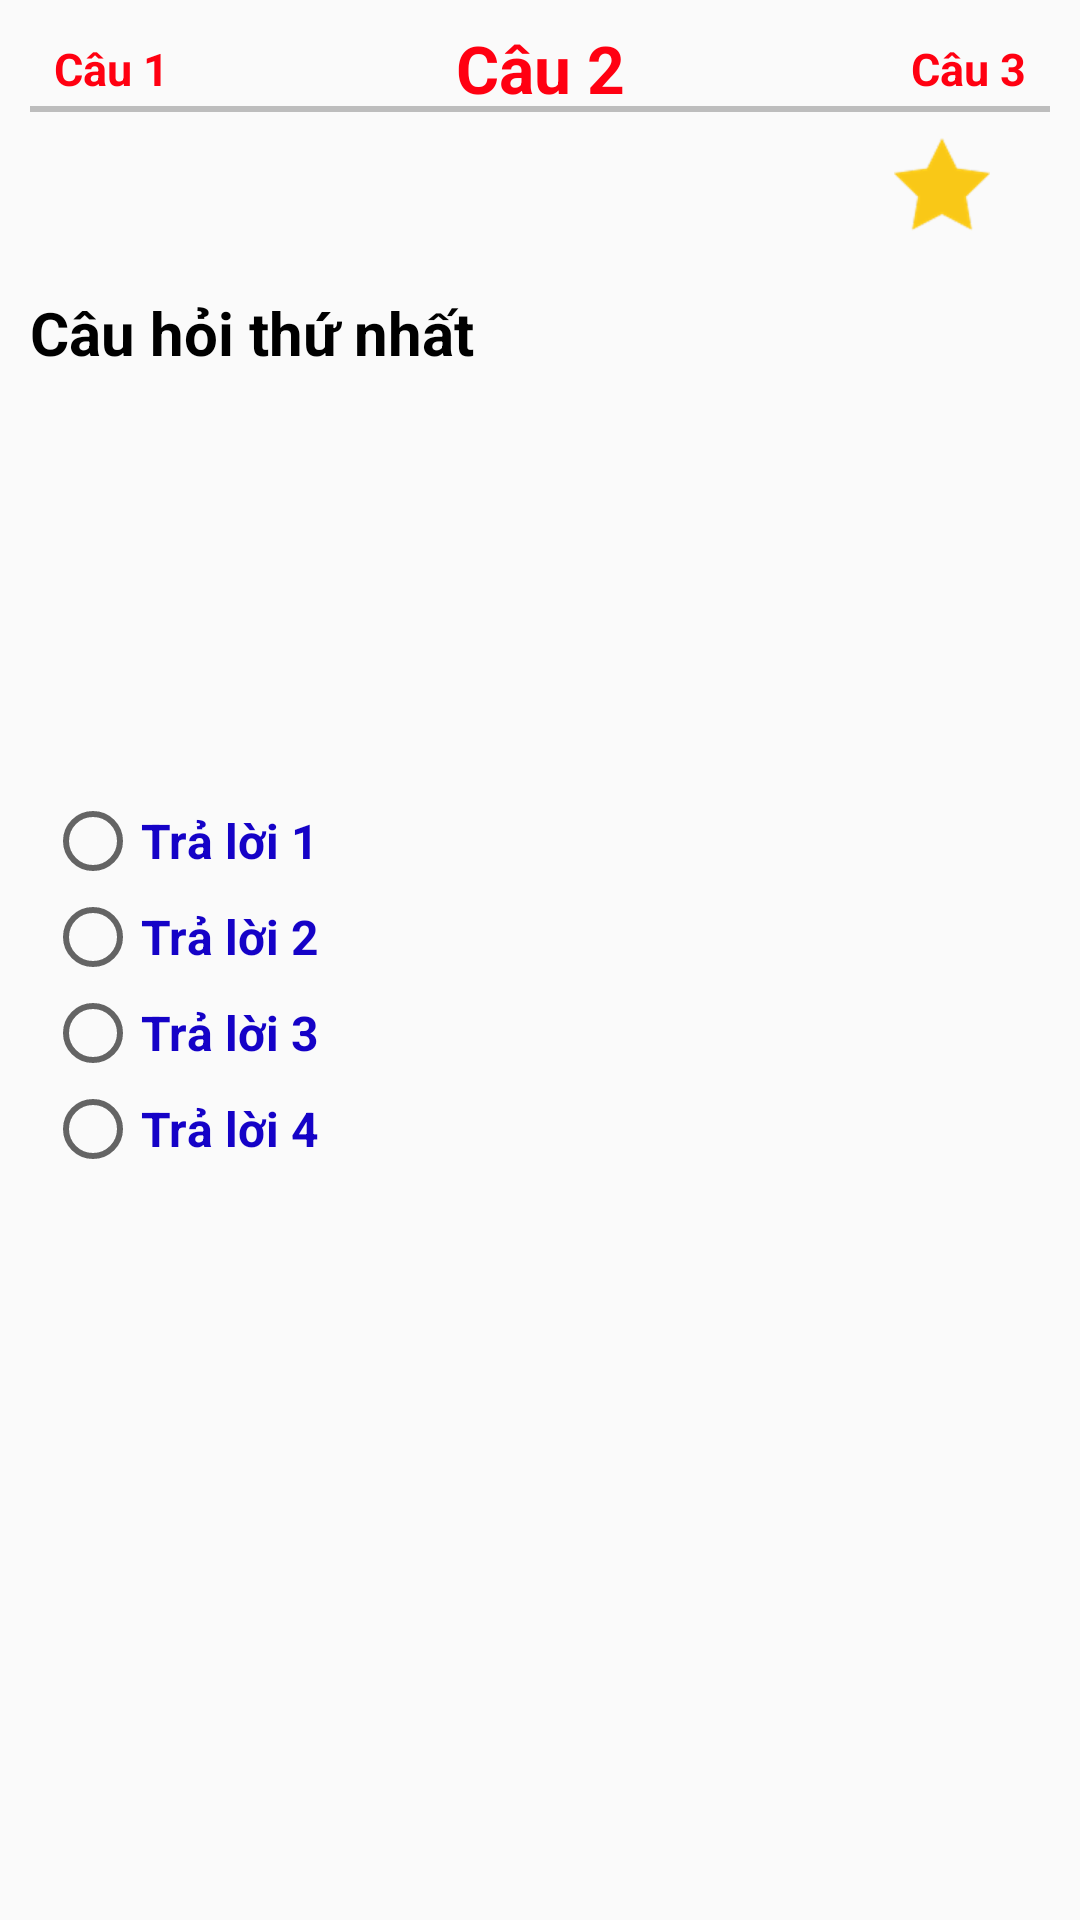

Locate icon controls on the screen. Image size 1080x1920, boxes as (x1, y1, x2, y2).
star: (894, 138, 990, 230)
